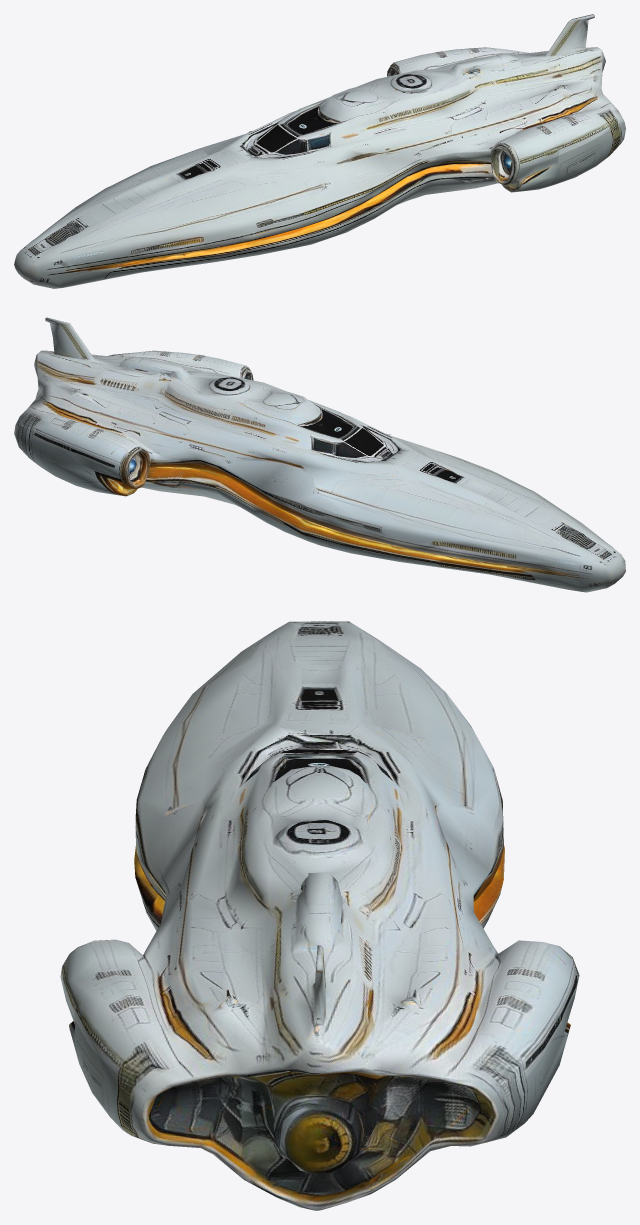
The model's file is warp_small_colony.glb.
3 views of the same model, one above another, from view 1: azimuth 30°, elevation 25°; view 2: azimuth 150°, elevation 25°; view 3: azimuth 270°, elevation 25° (orthographic). The views are drawn at different scales.
Visible parts, largest first — view 1: Mesh_0; view 2: Mesh_0; view 3: Mesh_0.
Boxes of the visible parts, x1,y1,x2,y2 form: Mesh_0: [14, 14, 625, 288]; Mesh_0: [14, 317, 625, 592]; Mesh_0: [60, 621, 579, 1210].
Size of the model in its own units: 1.91 by 0.4855 by 0.7329.
1 material, 1 textured.
